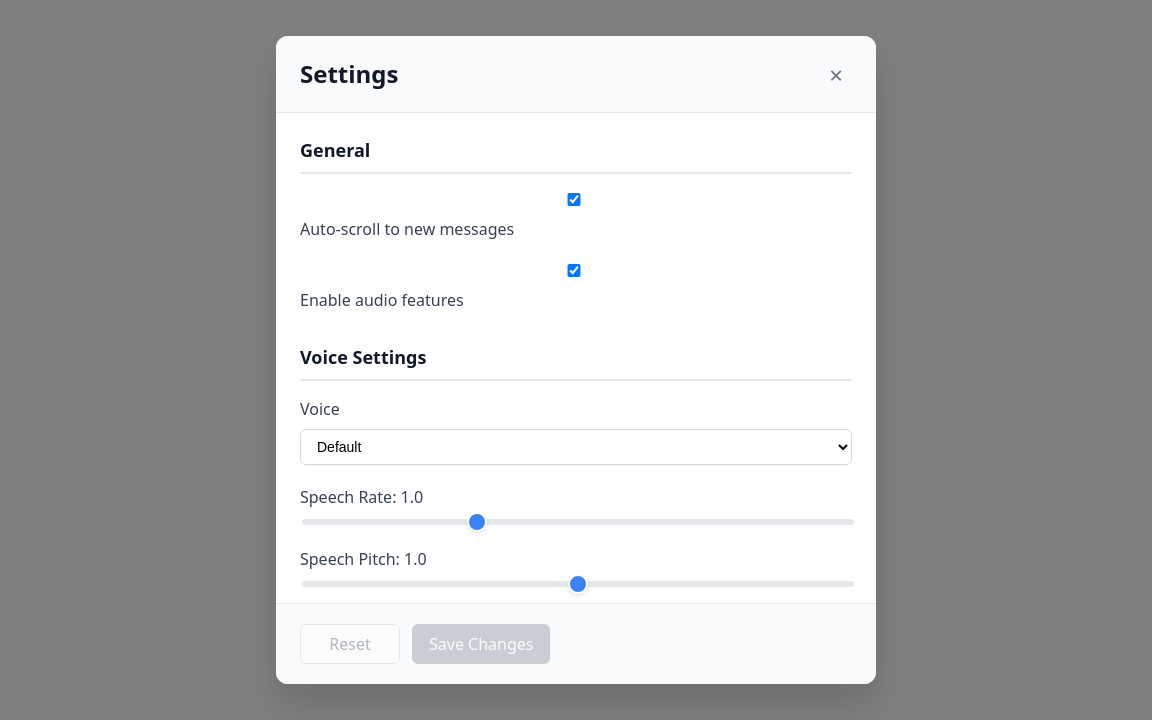
SettingsPanel › Actions › shows unsaved changes indicator when changes are made
This screenshot has width=1152, height=720.
Note: Make a change
Click the checkbox labelled "Auto-scroll to new messages" at (574, 200), box [304,193,844,206]
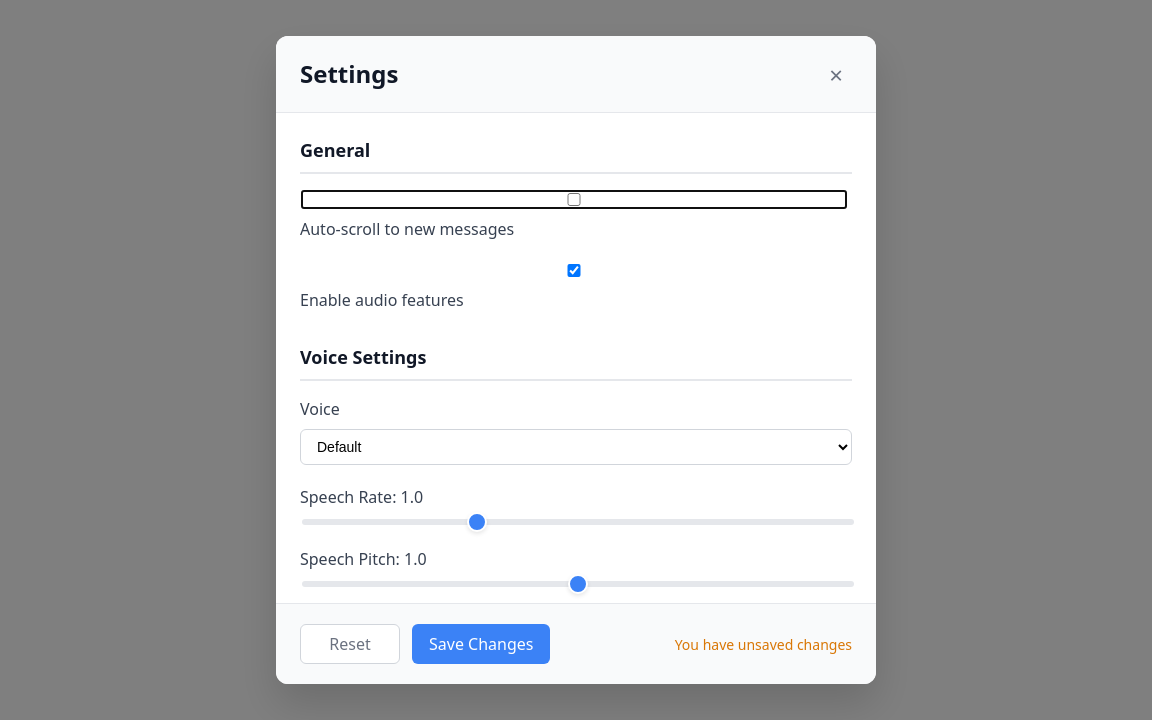
Expected: the text "You have unsaved changes" is shown, [675,634,852,654]
Expected: the button "Save Changes" is enabled, [412,624,550,664]
Expected: the button "Reset" is enabled, [300,624,400,664]
